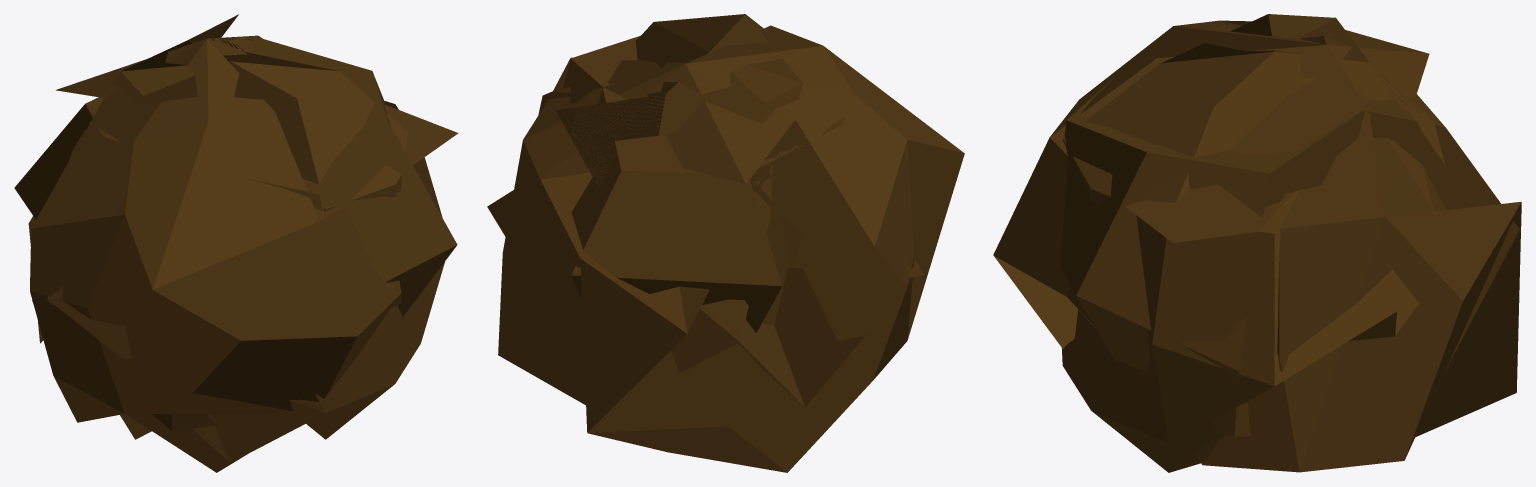
File: rock.FBX
The picture shows the model from 3 angles, left to right: view 1: azimuth 30°, elevation 25°; view 2: azimuth 150°, elevation 25°; view 3: azimuth 270°, elevation 25°; orthographic projection. The views are drawn at different scales.
Parts seen in each view (by area): view 1: rock03, rock02, rock01; view 2: rock03, rock01, rock02; view 3: rock03, rock02, rock01.
Boxes of the visible parts, box(x1,y1,x2,y2) form: rock03: box(30, 35, 458, 472); rock02: box(28, 14, 444, 462); rock01: box(14, 37, 457, 431); rock03: box(498, 25, 964, 472); rock01: box(563, 36, 845, 332); rock02: box(487, 14, 924, 407); rock03: box(993, 20, 1521, 472); rock02: box(1062, 14, 1444, 472); rock01: box(1061, 76, 1519, 436).
Size of the model in its own units: 10.21 by 9.55 by 10.79.
